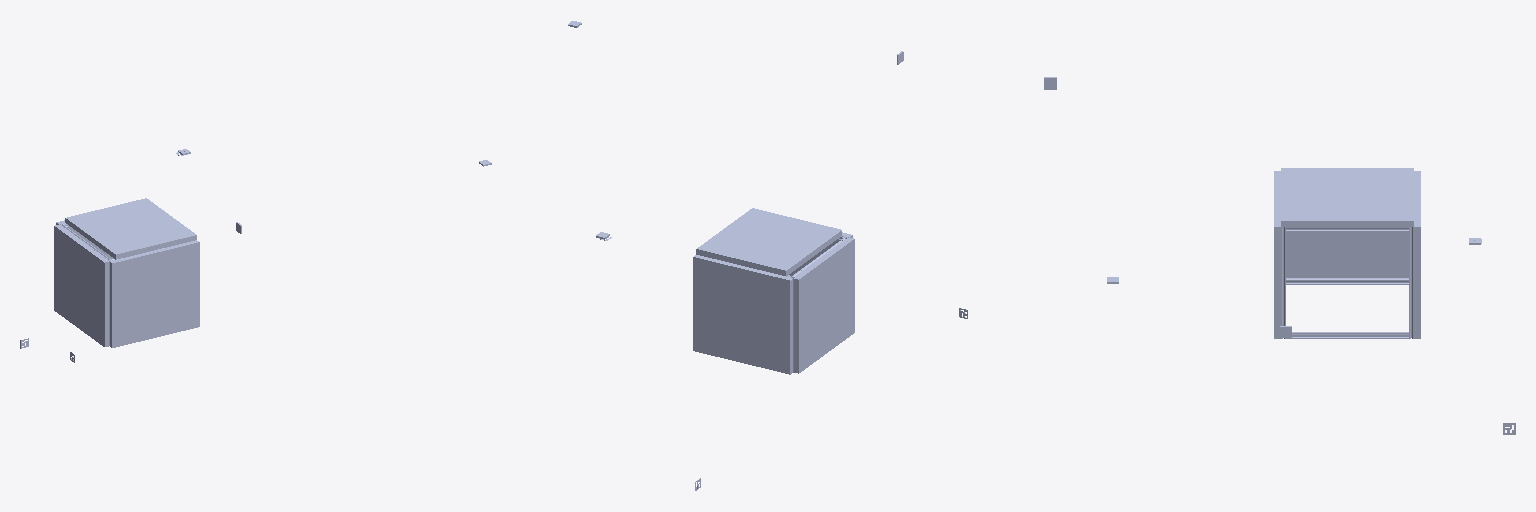
The robot description file, URDF, robot "final_dock":
<?xml version="1.0" encoding="utf-8"?>
<!-- This URDF was automatically created by SolidWorks to URDF Exporter! Originally created by [author] ([email redacted]) 
     Commit Version: 1.5.1-0-g916b5db  Build Version: 1.5.7152.31018
     For more information, please see http://wiki.ros.org/sw_urdf_exporter -->
<robot
  name="final_dock">
  <link
    name="base_link">
    <inertial>
      <origin
        xyz="-0.0642584977224241 -1.47659662275146E-14 0.314258497722413"
        rpy="0 0 0" />
      <mass
        value="33.3422827476494" />
      <inertia
        ixx="0.912583437216018"
        ixy="1.20445655919507E-14"
        ixz="-7.67659130903066E-15"
        iyy="1.08041456221602"
        iyz="-1.45670811391941E-15"
        izz="0.967185484716018" />
    </inertial>
    <visual>
      <origin
        xyz="0 0 0"
        rpy="0 0 0" />
      <geometry>
        <mesh
          filename="package://final_dock/meshes/base_link.STL" />
      </geometry>
      <material
        name="">
        <color
          rgba="0.792156862745098 0.819607843137255 0.933333333333333 1" />
      </material>
    </visual>
    <collision>
      <origin
        xyz="0 0 0"
        rpy="0 0 0" />
      <geometry>
        <mesh
          filename="package://final_dock/meshes/base_link.STL" />
      </geometry>
    </collision>
  </link>
  <link
    name="link1">
    <inertial>
      <origin
        xyz="0.00129229908407047 0.00616939431014224 0.00156771771744213"
        rpy="0 0 0" />
      <mass
        value="0.0224018252295753" />
      <inertia
        ixx="4.83862265108562E-06"
        ixy="4.4020651556297E-22"
        ixz="-3.12655878845334E-21"
        iyy="9.37469320384244E-06"
        iyz="1.18737134733566E-22"
        izz="4.83862265108561E-06" />
    </inertial>
    <visual>
      <origin
        xyz="0 0 0"
        rpy="0 0 0" />
      <geometry>
        <mesh
          filename="package://final_dock/meshes/link1.STL" />
      </geometry>
      <material
        name="">
        <color
          rgba="0.792156862745098 0.819607843137255 0.933333333333333 1" />
      </material>
    </visual>
    <collision>
      <origin
        xyz="0 0 0"
        rpy="0 0 0" />
      <geometry>
        <mesh
          filename="package://final_dock/meshes/link1.STL" />
      </geometry>
    </collision>
  </link>
  <joint
    name="joint1"
    type="fixed">
    <origin
      xyz="0.26834 -0.24843 0.035768"
      rpy="1.5708 1.5708 0" />
    <parent
      link="base_link" />
    <child
      link="link1" />
    <axis
      xyz="0.49249 0.63286 0.59745" />
  </joint>
  <link
    name="link11">
    <inertial>
      <origin
        xyz="-0.00211391829489893 -0.00755604968217544 -0.00152903387832068"
        rpy="0 0 0" />
      <mass
        value="0.00197270562183949" />
      <inertia
        ixx="4.70438772081543E-07"
        ixy="1.40237198207673E-17"
        ixz="1.63089053574725E-08"
        iyy="9.16307642939271E-07"
        iyz="-5.123305777124E-19"
        izz="4.46197655128034E-07" />
    </inertial>
    <visual>
      <origin
        xyz="0 0 0"
        rpy="0 0 0" />
      <geometry>
        <mesh
          filename="package://final_dock/meshes/link11.STL" />
      </geometry>
      <material
        name="">
        <color
          rgba="0.792156862745098 0.819607843137255 0.933333333333333 1" />
      </material>
    </visual>
    <collision>
      <origin
        xyz="0 0 0"
        rpy="0 0 0" />
      <geometry>
        <mesh
          filename="package://final_dock/meshes/link11.STL" />
      </geometry>
    </collision>
  </link>
  <joint
    name="joint11"
    type="fixed">
    <origin
      xyz="0.0028051 0.0036046 0.0034029"
      rpy="-3.1395 -1.5708 -0.0021108" />
    <parent
      link="link1" />
    <child
      link="link11" />
    <axis
      xyz="0.59745 -0.63286 0.49249" />
  </joint>
  <link
    name="link2">
    <inertial>
      <origin
        xyz="0.0134195607892446 0.0217531611160481 -0.0162795775907622"
        rpy="0 0 0" />
      <mass
        value="0.0224018252295753" />
      <inertia
        ixx="4.8386226510856E-06"
        ixy="1.91617813960303E-21"
        ixz="4.42423171655046E-21"
        iyy="9.37469320384243E-06"
        iyz="-1.90604931052227E-20"
        izz="4.83862265108562E-06" />
    </inertial>
    <visual>
      <origin
        xyz="0 0 0"
        rpy="0 0 0" />
      <geometry>
        <mesh
          filename="package://final_dock/meshes/link2.STL" />
      </geometry>
      <material
        name="">
        <color
          rgba="0.792156862745098 0.819607843137255 0.933333333333333 1" />
      </material>
    </visual>
    <collision>
      <origin
        xyz="0 0 0"
        rpy="0 0 0" />
      <geometry>
        <mesh
          filename="package://final_dock/meshes/link2.STL" />
      </geometry>
    </collision>
  </link>
  <joint
    name="joint2"
    type="fixed">
    <origin
      xyz="0.25276 -0.23372 0.48378"
      rpy="1.5708 -1.5708 0" />
    <parent
      link="base_link" />
    <child
      link="link2" />
    <axis
      xyz="0 0 0" />
  </joint>
  <link
    name="link22">
    <inertial>
      <origin
        xyz="-0.0131554043586068 -0.0231398164014147 0.0105982279711538"
        rpy="0 0 0" />
      <mass
        value="0.00197270562183948" />
      <inertia
        ixx="4.70438772031381E-07"
        ixy="2.93959719977276E-15"
        ixz="1.63089053947524E-08"
        iyy="9.16307642939266E-07"
        iyz="-1.07524318394381E-16"
        izz="4.46197655178191E-07" />
    </inertial>
    <visual>
      <origin
        xyz="0 0 0"
        rpy="0 0 0" />
      <geometry>
        <mesh
          filename="package://final_dock/meshes/link22.STL" />
      </geometry>
      <material
        name="">
        <color
          rgba="0.792156862745098 0.819607843137255 0.933333333333333 1" />
      </material>
    </visual>
    <collision>
      <origin
        xyz="0 0 0"
        rpy="0 0 0" />
      <geometry>
        <mesh
          filename="package://final_dock/meshes/link22.STL" />
      </geometry>
    </collision>
  </link>
  <joint
    name="joint22"
    type="fixed">
    <origin
      xyz="0.0028051 0.0036046 -0.0034029"
      rpy="-2.6833 -1.5708 -0.45832" />
    <parent
      link="link2" />
    <child
      link="link22" />
    <axis
      xyz="0.59745 0.63286 -0.49249" />
  </joint>
  <link
    name="link3">
    <inertial>
      <origin
        xyz="0.0106144827641775 0.0181485813784557 -0.0128766729745483"
        rpy="0 0 0" />
      <mass
        value="0.0224018252295753" />
      <inertia
        ixx="4.83862265108561E-06"
        ixy="1.3621177259192E-21"
        ixz="3.08241859037336E-21"
        iyy="9.37469320384243E-06"
        iyz="3.15442788160266E-20"
        izz="4.83862265108561E-06" />
    </inertial>
    <visual>
      <origin
        xyz="0 0 0"
        rpy="0 0 0" />
      <geometry>
        <mesh
          filename="package://final_dock/meshes/link3.STL" />
      </geometry>
      <material
        name="">
        <color
          rgba="0.792156862745098 0.819607843137255 0.933333333333333 1" />
      </material>
    </visual>
    <collision>
      <origin
        xyz="0 0 0"
        rpy="0 0 0" />
      <geometry>
        <mesh
          filename="package://final_dock/meshes/link3.STL" />
      </geometry>
    </collision>
  </link>
  <joint
    name="joint3"
    type="fixed">
    <origin
      xyz="0.25636 0.23712 0.04509"
      rpy="1.5708 1.5708 0" />
    <parent
      link="base_link" />
    <child
      link="link3" />
    <axis
      xyz="0 0 0" />
  </joint>
  <link
    name="link33">
    <inertial>
      <origin
        xyz="-0.01277730384721 -0.0227393075441741 0.0102865526299783"
        rpy="0 0 0" />
      <mass
        value="0.00197270562183948" />
      <inertia
        ixx="4.7043877203138E-07"
        ixy="2.93959967087151E-15"
        ixz="1.63089053947519E-08"
        iyy="9.16307642939266E-07"
        iyz="-1.07524402757167E-16"
        izz="4.46197655178192E-07" />
    </inertial>
    <visual>
      <origin
        xyz="0 0 0"
        rpy="0 0 0" />
      <geometry>
        <mesh
          filename="package://final_dock/meshes/link33.STL" />
      </geometry>
      <material
        name="">
        <color
          rgba="0.792156862745098 0.819607843137255 0.933333333333333 1" />
      </material>
    </visual>
    <collision>
      <origin
        xyz="0 0 0"
        rpy="0 0 0" />
      <geometry>
        <mesh
          filename="package://final_dock/meshes/link33.STL" />
      </geometry>
    </collision>
  </link>
  <joint
    name="joint33"
    type="fixed">
    <origin
      xyz="0.00031168 0.00040051 -0.0003781"
      rpy="-2.6833 -1.5708 -0.45833" />
    <parent
      link="link3" />
    <child
      link="link33" />
    <axis
      xyz="0.59745 0.63286 -0.49249" />
  </joint>
  <link
    name="link4">
    <inertial>
      <origin
        xyz="-0.00129229908406958 0.00284813547047613 -0.0015677177174408"
        rpy="0 0 0" />
      <mass
        value="0.0224018252295753" />
      <inertia
        ixx="4.83862265108562E-06"
        ixy="6.18408067843851E-22"
        ixz="3.10410263382316E-21"
        iyy="9.37469320384245E-06"
        iyz="4.34368219922061E-24"
        izz="4.83862265108562E-06" />
    </inertial>
    <visual>
      <origin
        xyz="0 0 0"
        rpy="0 0 0" />
      <geometry>
        <mesh
          filename="package://final_dock/meshes/link4.STL" />
      </geometry>
      <material
        name="">
        <color
          rgba="0.792156862745098 0.819607843137255 0.933333333333333 1" />
      </material>
    </visual>
    <collision>
      <origin
        xyz="0 0 0"
        rpy="0 0 0" />
      <geometry>
        <mesh
          filename="package://final_dock/meshes/link4.STL" />
      </geometry>
    </collision>
  </link>
  <joint
    name="joint4"
    type="fixed">
    <origin
      xyz="0.27166 0.25157 0.49849"
      rpy="1.5708 -1.5708 0" />
    <parent
      link="base_link" />
    <child
      link="link4" />
    <axis
      xyz="0.49249 0.63286 0.59745" />
  </joint>
  <link
    name="link44">
    <inertial>
      <origin
        xyz="-0.00249201881244301 -0.0071555408224302 -0.00184070920880564"
        rpy="0 0 0" />
      <mass
        value="0.00197270562183949" />
      <inertia
        ixx="4.70438772081544E-07"
        ixy="1.40249854235485E-17"
        ixz="1.63089053574733E-08"
        iyy="9.1630764293927E-07"
        iyz="-5.13032752877217E-19"
        izz="4.46197655128033E-07" />
    </inertial>
    <visual>
      <origin
        xyz="0 0 0"
        rpy="0 0 0" />
      <geometry>
        <mesh
          filename="package://final_dock/meshes/link44.STL" />
      </geometry>
      <material
        name="">
        <color
          rgba="0.792156862745098 0.819607843137255 0.933333333333333 1" />
      </material>
    </visual>
    <collision>
      <origin
        xyz="0 0 0"
        rpy="0 0 0" />
      <geometry>
        <mesh
          filename="package://final_dock/meshes/link44.STL" />
      </geometry>
    </collision>
  </link>
  <joint
    name="joint44"
    type="fixed">
    <origin
      xyz="0.00053216 0.00068383 0.00064557"
      rpy="-3.1395 -1.5708 -0.0021109" />
    <parent
      link="link4" />
    <child
      link="link44" />
    <axis
      xyz="0.59745 -0.63286 0.49249" />
  </joint>
</robot>

--- Render facts (derived) ---
3 views of the same robot in one strip: view 1: azimuth 30°, elevation 25°; view 2: azimuth 150°, elevation 25°; view 3: azimuth 270°, elevation 25° (orthographic).
Robot: final_dock — 9 links, 8 joints (8 fixed); root link base_link; default pose: all joints at 0.
Visible links, largest first — view 1: base_link; view 2: base_link; view 3: base_link.
Link boxes in pixels (x1=…): base_link: x1=54, y1=198, x2=199, y2=347; base_link: x1=693, y1=208, x2=854, y2=374; base_link: x1=1274, y1=168, x2=1420, y2=338.
Bounding box of the posed robot: 2.55 × 1.91 × 1.58 m (x, y, z).
Meshes: 9 distinct files referenced, 9 mesh visuals loaded (9 binary STL).